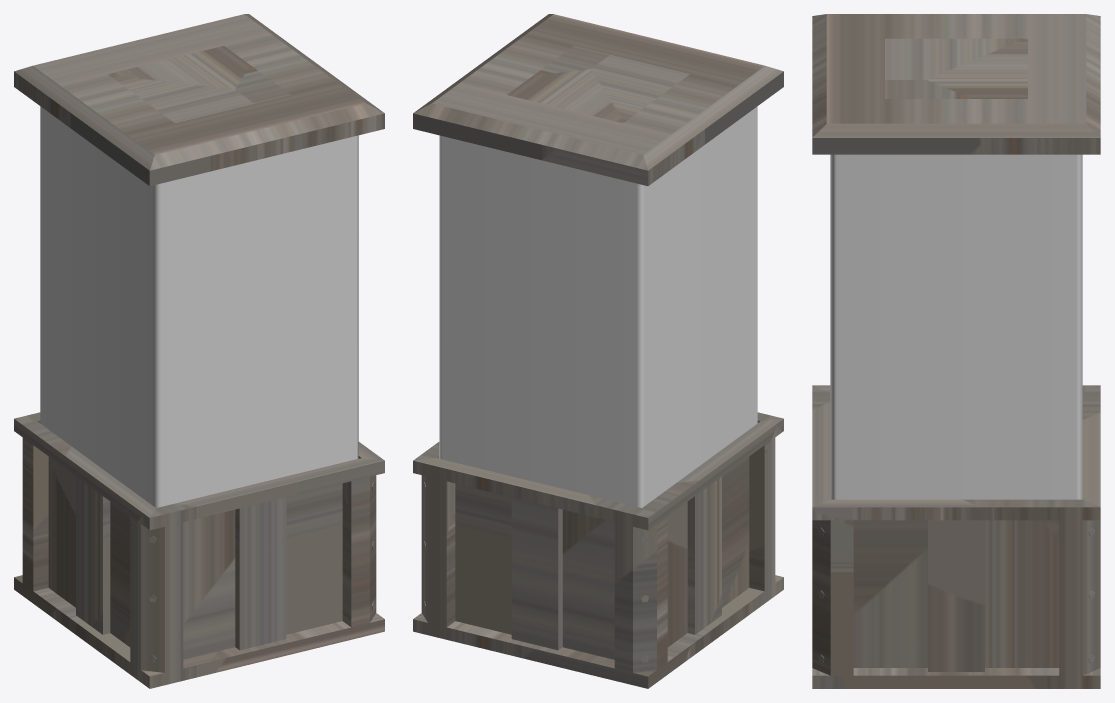
Rendered from FurnaceTankC.fbx.
3 views of the same model, side by side, from view 1: azimuth 30°, elevation 25°; view 2: azimuth 150°, elevation 25°; view 3: azimuth 270°, elevation 25° (orthographic). The views are drawn at different scales.
Visible parts, largest first — view 1: FurnaceTankC; view 2: FurnaceTankC; view 3: FurnaceTankC.
Boxes of the visible parts, bbox=[...] form: FurnaceTankC: bbox=[14, 14, 384, 688]; FurnaceTankC: bbox=[413, 14, 783, 688]; FurnaceTankC: bbox=[812, 14, 1100, 688].
Bounding box in the file's own units: 126 × 269 × 126.
